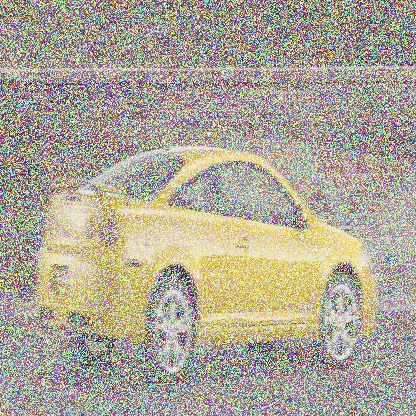Vehicle: (37, 145, 378, 385)
